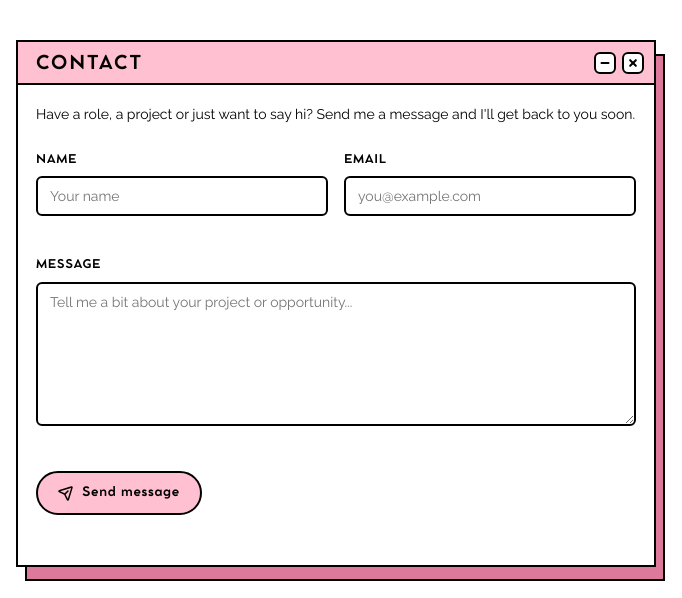
it: Contact form › submits the form and shows a success toast
This screenshot has width=682, height=598.
Type "Jane Doe" into the field labelled "Name" at (182, 196), box [36, 176, 328, 216]
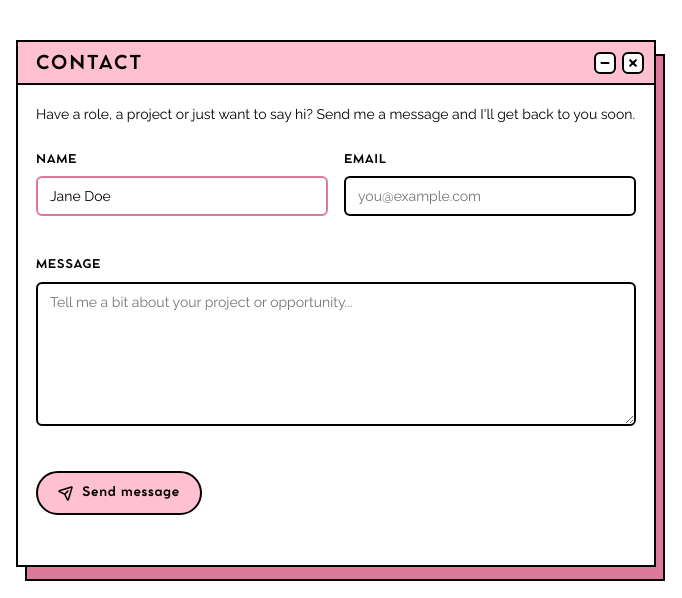
Type "jane@example.com" into the field labelled "Email" at (490, 196), box [344, 176, 636, 216]
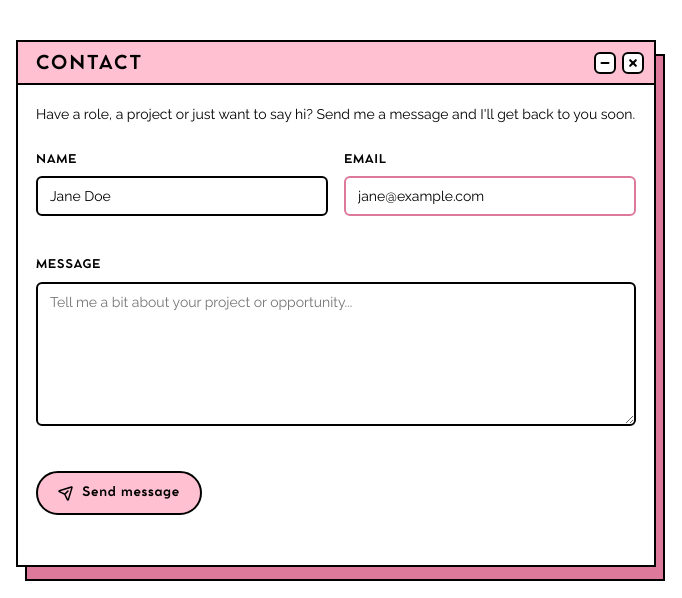
Type "Hello there" into the text box labelled "Message" at (336, 354), box [36, 282, 636, 426]
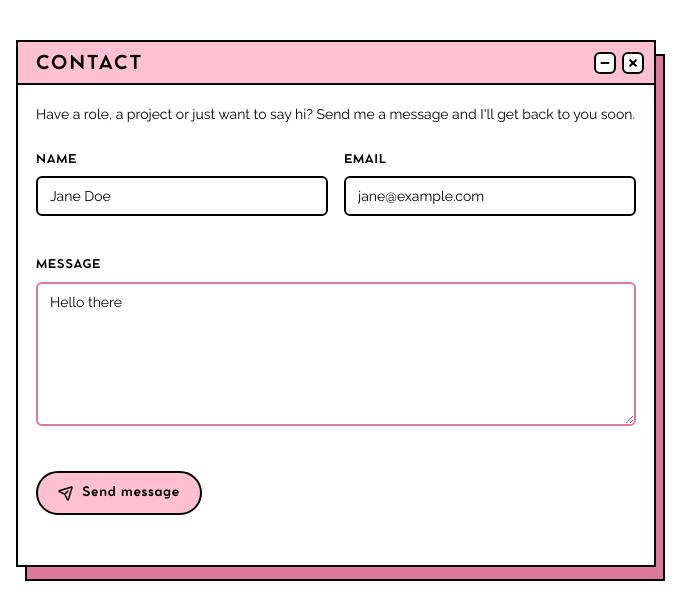
Click the button "Send message" at (119, 493), box [36, 471, 202, 515]
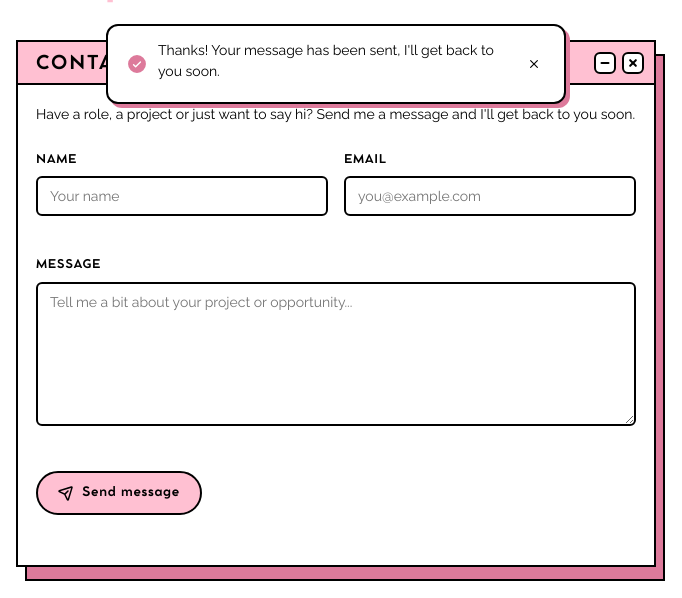
Expected: the text "Thanks! Your message has been sent, I'll get back to you soon." is shown, [158, 40, 512, 82]
